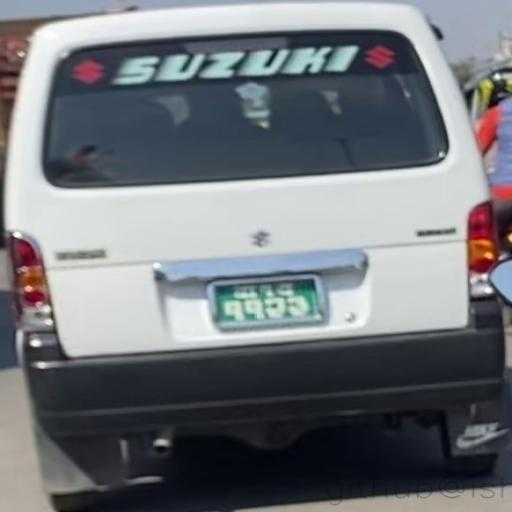license_plate: (207, 276, 328, 327)
